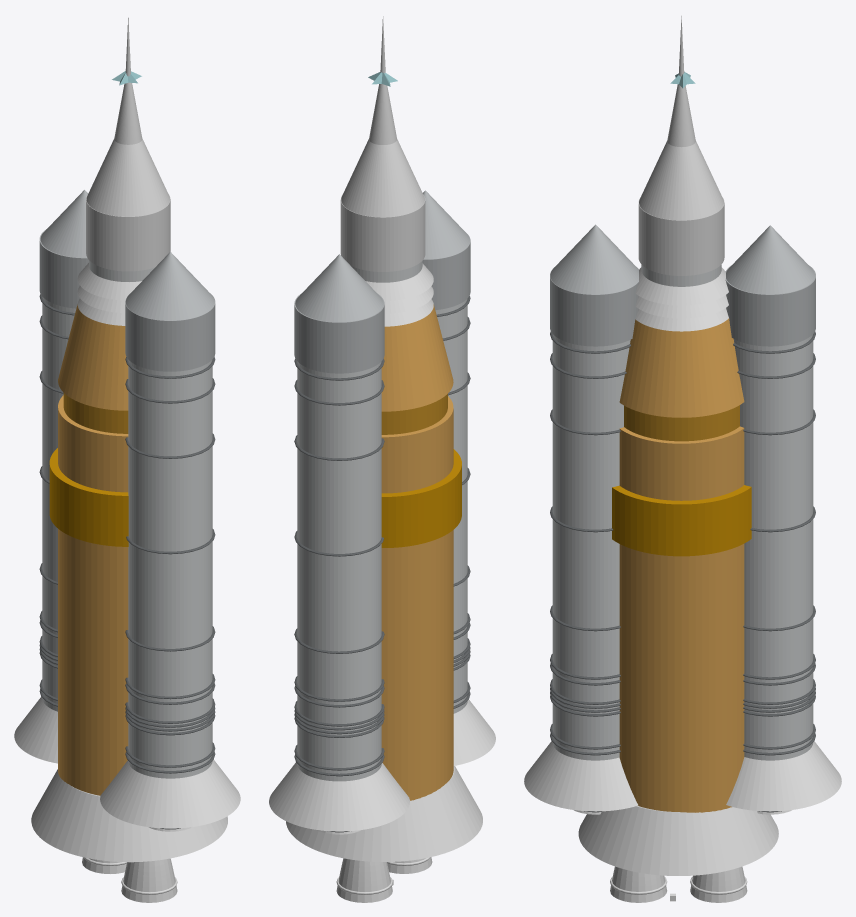
3 renders of one model, left to right at view 1: azimuth 30°, elevation 25°; view 2: azimuth 150°, elevation 25°; view 3: azimuth 270°, elevation 25°, orthographic.
Parts seen in each view (by area): view 1: Mesh_Mesh_head_geo001_lambert2SG001_0; view 2: Mesh_Mesh_head_geo001_lambert2SG001_0; view 3: Mesh_Mesh_head_geo001_lambert2SG001_0.
Boxes of the visible parts, box(x1,y1,x2,y2) form: Mesh_Mesh_head_geo001_lambert2SG001_0: box(14, 17, 240, 902); Mesh_Mesh_head_geo001_lambert2SG001_0: box(269, 16, 495, 902); Mesh_Mesh_head_geo001_lambert2SG001_0: box(524, 16, 841, 902).
Size of the model in its own units: 70 by 342 by 111.
